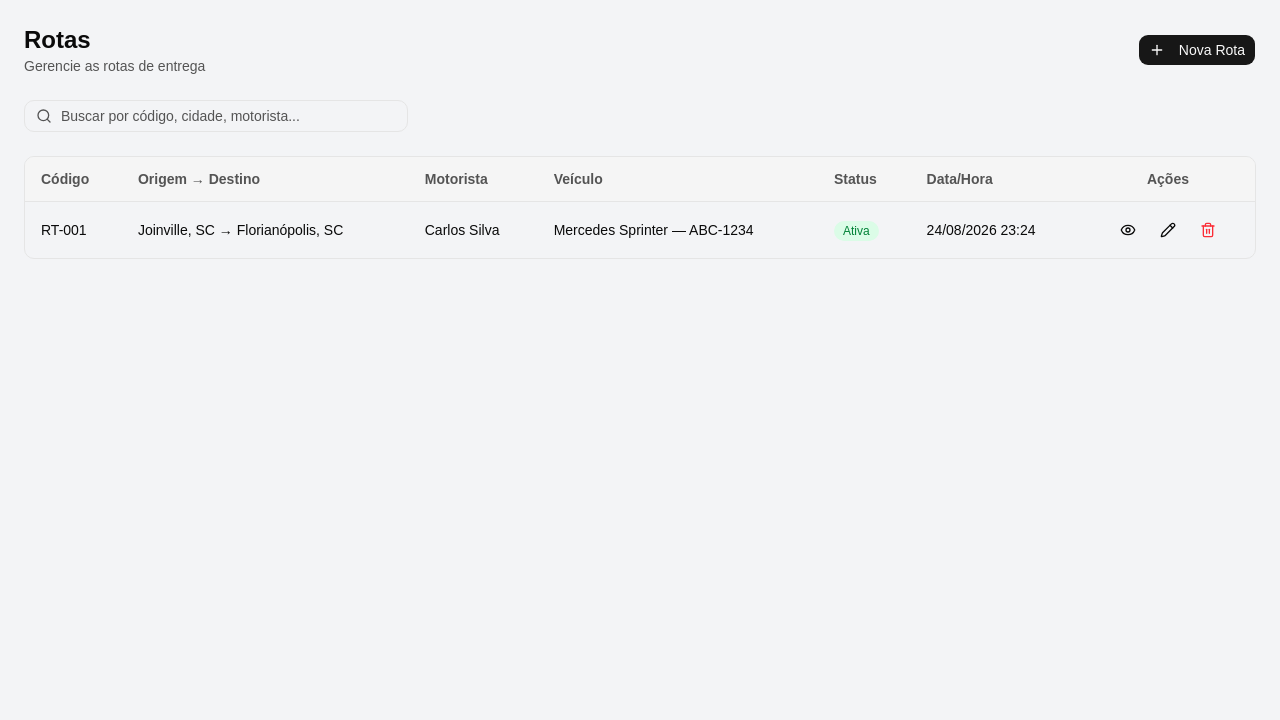
Rotas › exibe a mensagem de erro da API quando a exclusão é bloqueada (RN08)
The width and height of the screenshot is (1280, 720).
Expected: the text "RT-001" is shown, [25,202,122,258]
Step 1. Click the button named "Excluir RT-001" → (1208, 230), box [1192,214,1224,246]
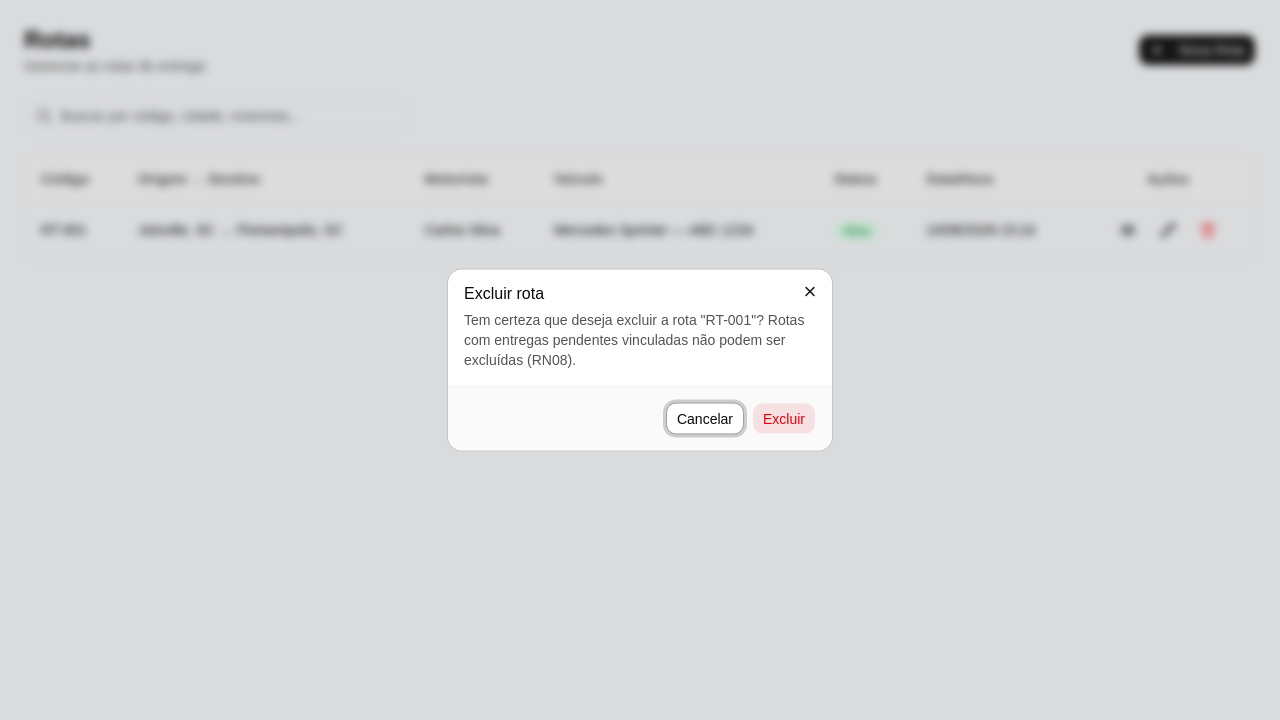
Step 2. Click the button "Excluir" → (784, 418), box [752,402,816,434]
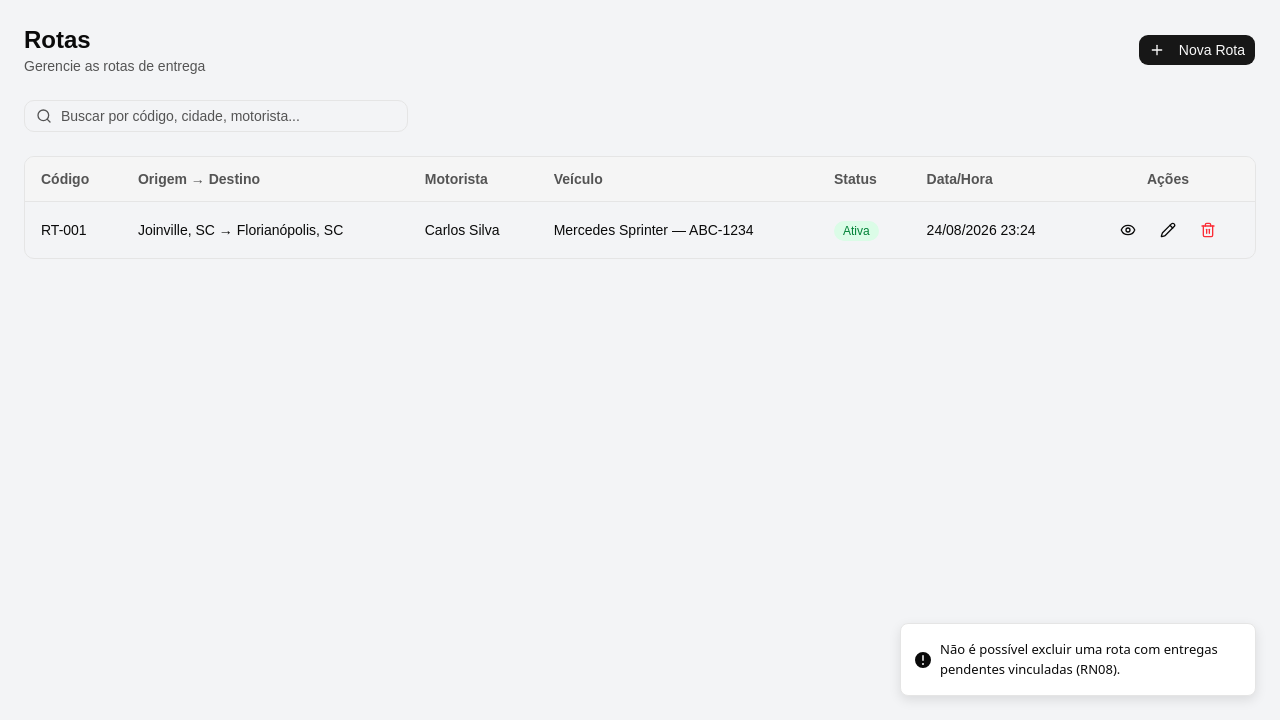
Now the text "Não é possível excluir uma rota com entregas pendentes vinculadas (RN08)." is shown, box [940,640,1239,679]
